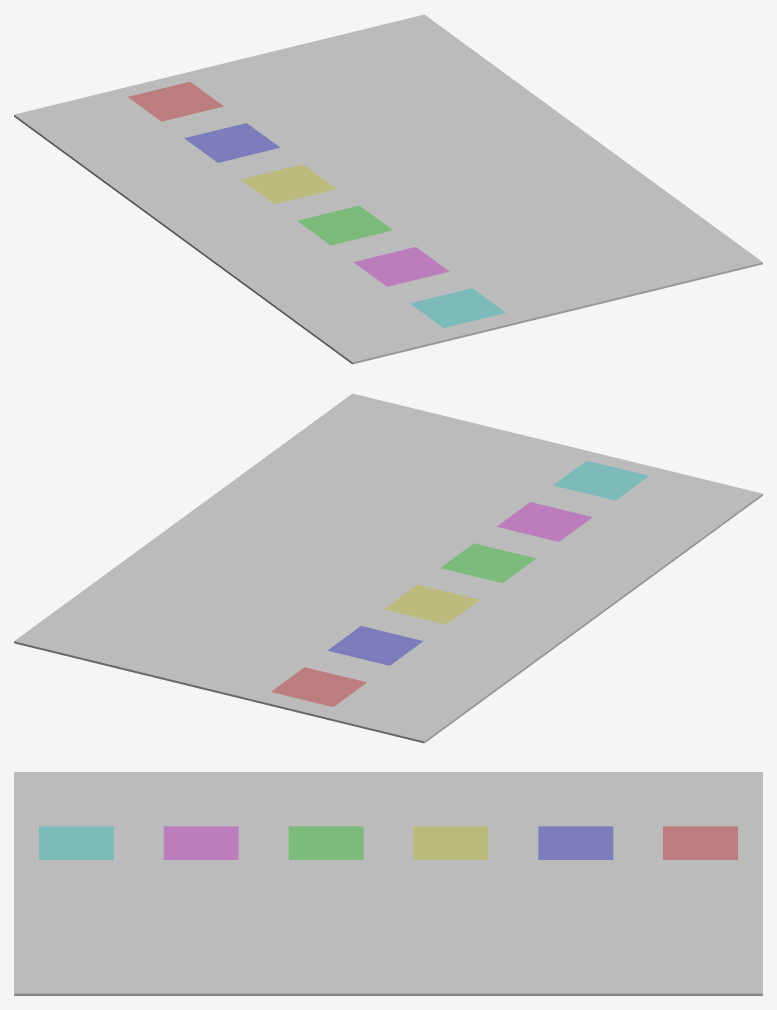
Rendered from CauldronPuzzlePaper.fbx.
3 views of the same model, one above another, from view 1: azimuth 30°, elevation 25°; view 2: azimuth 150°, elevation 25°; view 3: azimuth 270°, elevation 25° (orthographic). The views are drawn at different scales.
Visible parts, largest first — view 1: Cube; view 2: Cube; view 3: Cube.
Boxes of the visible parts, bbox=[...] form: Cube: bbox=[14, 14, 762, 364]; Cube: bbox=[14, 393, 762, 743]; Cube: bbox=[14, 772, 762, 995].
Size of the model in its own units: 420 by 3 by 600.
